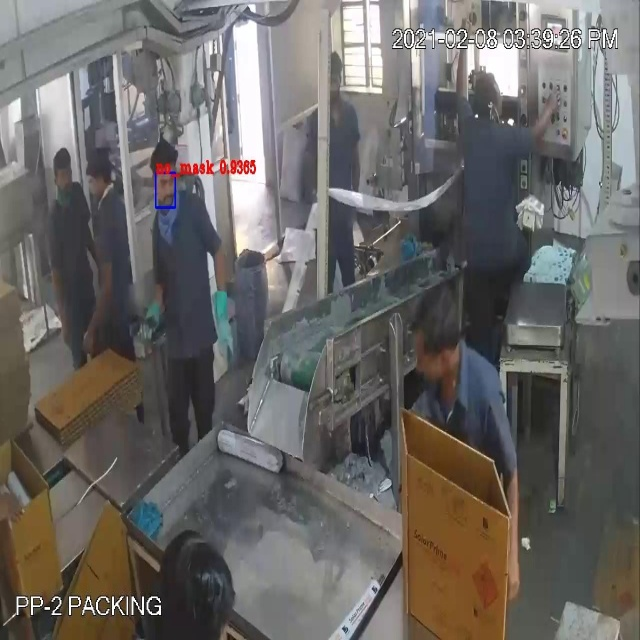Guantes: (198, 226, 243, 384), (130, 260, 174, 357)
Sin_guantes: (491, 444, 531, 620), (84, 244, 122, 371)
